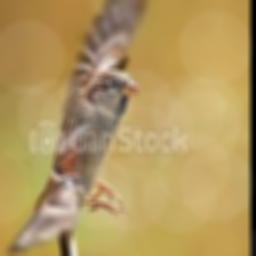Sparrow: (6, 0, 147, 256)
